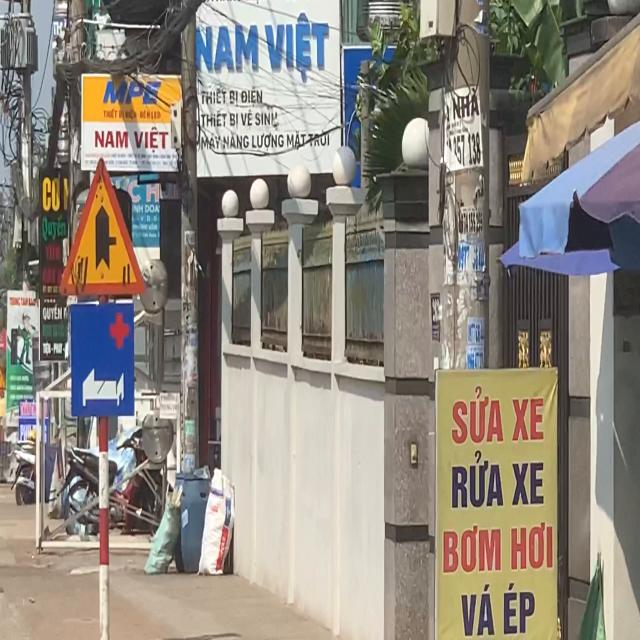Chi dan: (70, 302, 135, 418)
Giao voi duong khong uu tien: (58, 156, 147, 297)
